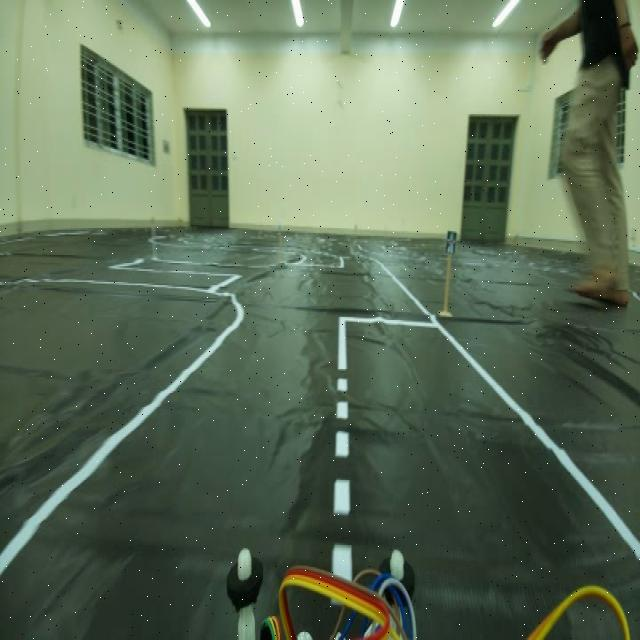highway_exit: (443, 225, 461, 266)
